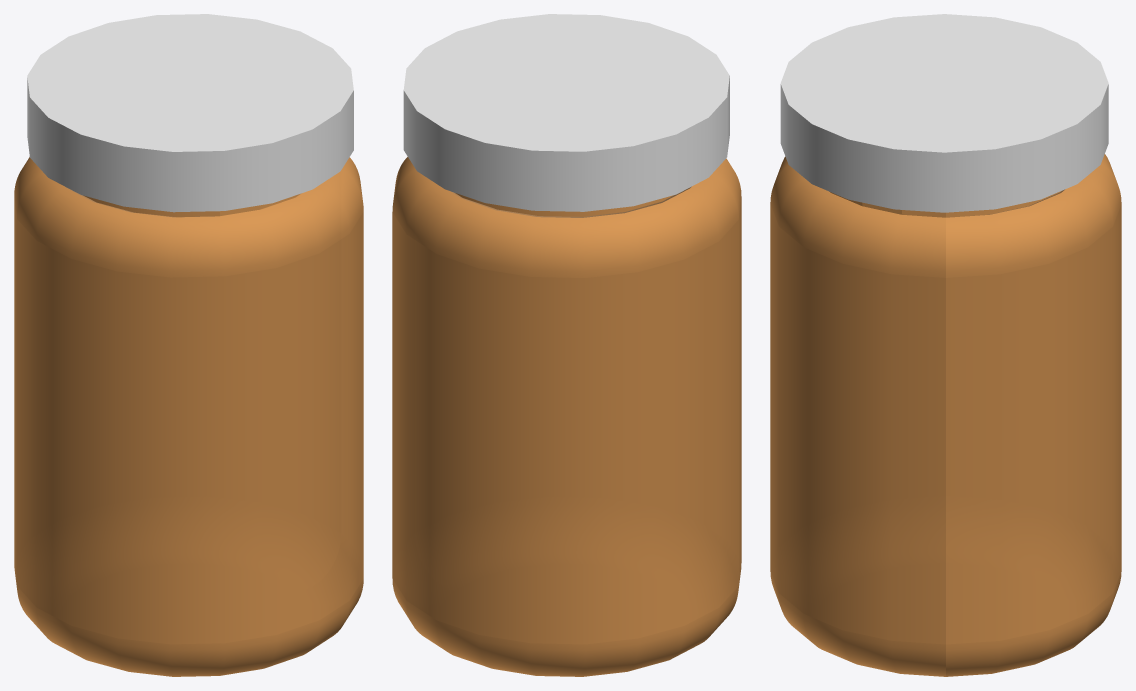
The model's file is pill-bottle.dae.
3 views of the same model, side by side, from view 1: azimuth 30°, elevation 25°; view 2: azimuth 150°, elevation 25°; view 3: azimuth 270°, elevation 25° (orthographic).
Visible parts, largest first — view 1: group_0, group_1; view 2: group_0, group_1; view 3: group_0, group_1.
Part boxes in pixels (<box>): group_0: <box>14,157,363,676</box>; group_1: <box>27,14,353,212</box>; group_0: <box>392,157,741,676</box>; group_1: <box>403,14,729,211</box>; group_0: <box>770,154,1121,676</box>; group_1: <box>780,14,1108,212</box>.
Bounding box in the file's own units: 9.55 × 9.55 × 16.06.
